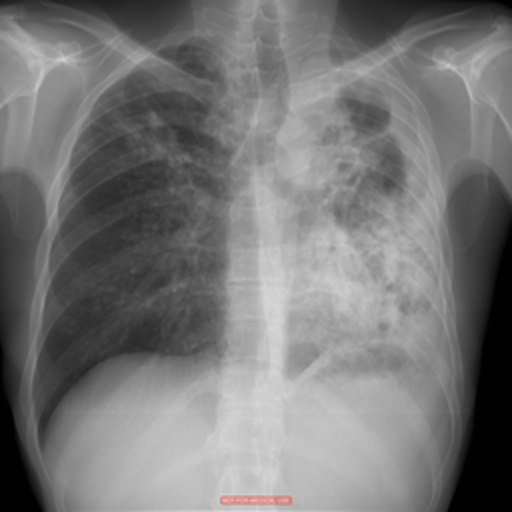TB: (312, 108, 430, 352)
